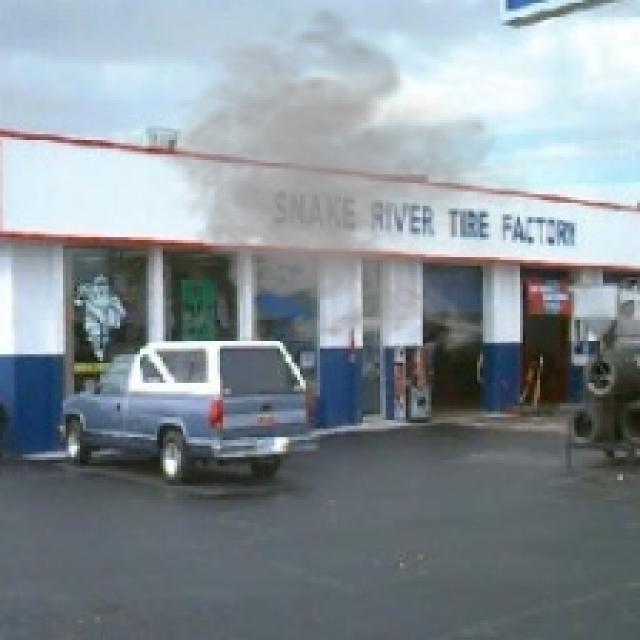Smoke: (140, 6, 557, 363)
